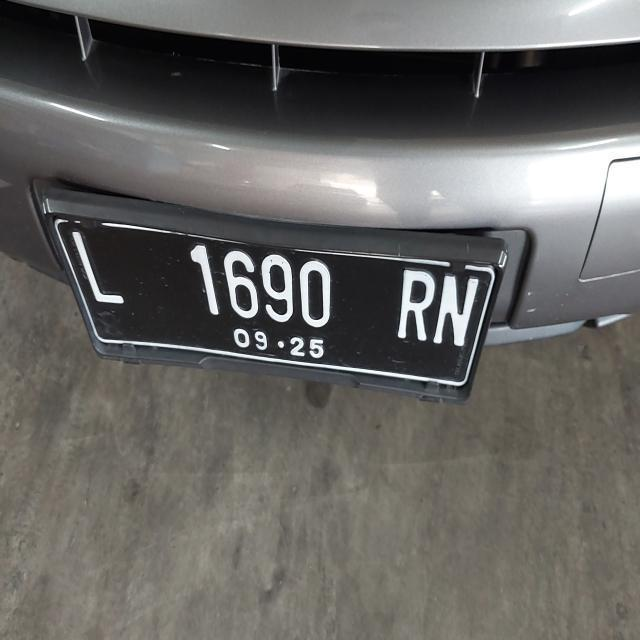0: (300, 259, 336, 333)
1: (186, 238, 226, 328)
6: (218, 246, 260, 325)
9: (258, 248, 297, 326)
L: (68, 224, 136, 328)
N: (433, 263, 481, 359)
R: (394, 262, 436, 352)
